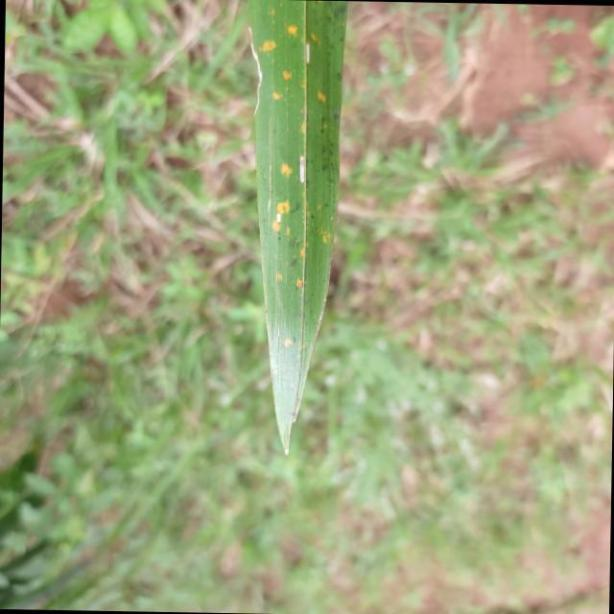Kalium: (245, 0, 347, 469)
